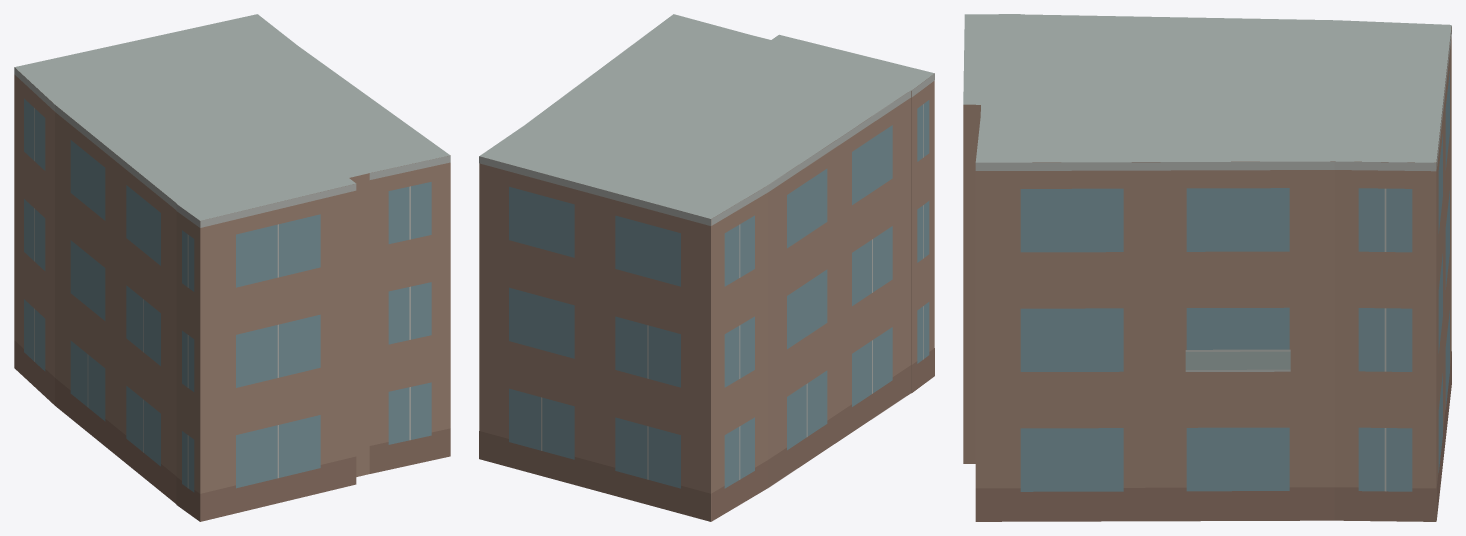
The model's file is survey-upis-33012934.glb.
3 renders of one model, left to right at view 1: azimuth 30°, elevation 25°; view 2: azimuth 150°, elevation 25°; view 3: azimuth 270°, elevation 25°, orthographic. The views are drawn at different scales.
Parts seen in each view (by area): view 1: survey-upis-33012934.tmp; view 2: survey-upis-33012934.tmp; view 3: survey-upis-33012934.tmp.
Boxes of the visible parts, box(x1,y1,x2,y2) form: survey-upis-33012934.tmp: box(14, 14, 450, 521); survey-upis-33012934.tmp: box(479, 14, 934, 521); survey-upis-33012934.tmp: box(963, 14, 1451, 521).
Size of the model in its own units: 9.16 by 10.3 by 12.71.
